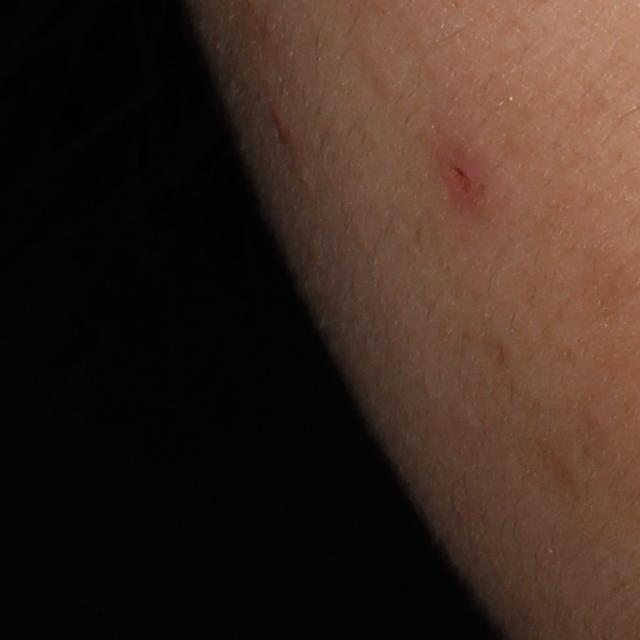papule: (429, 136, 493, 216), (264, 99, 293, 143)
